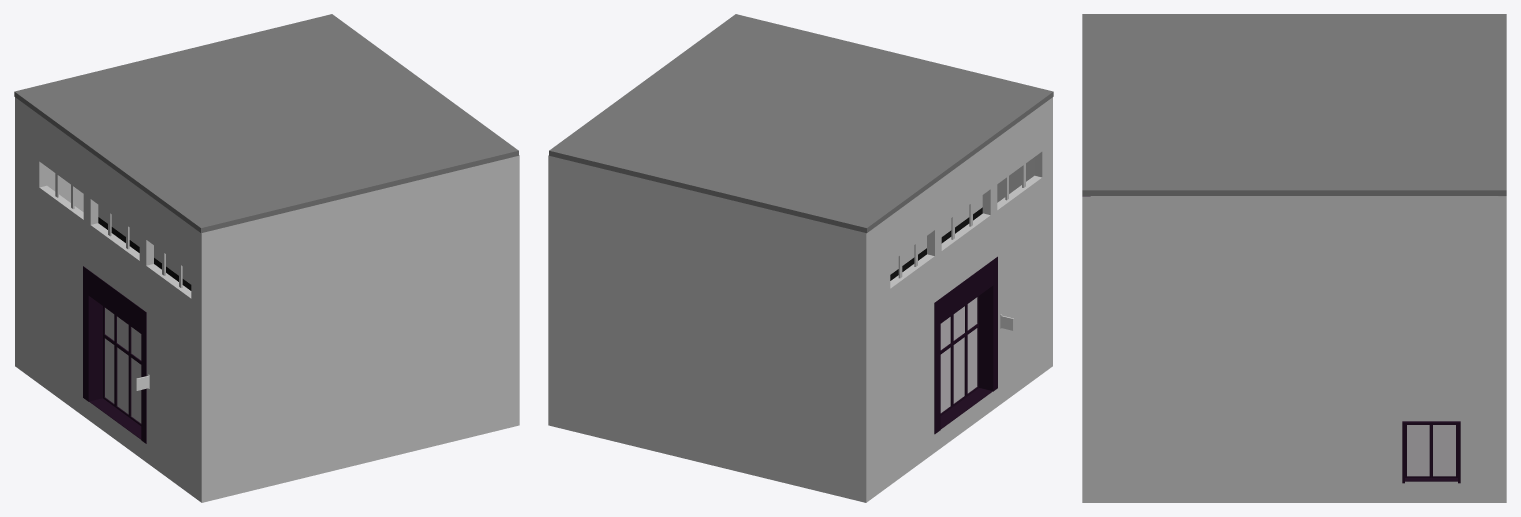
Rendered from Pop-up-Room.fbx.
The picture shows the model from 3 angles, left to right: view 1: azimuth 30°, elevation 25°; view 2: azimuth 150°, elevation 25°; view 3: azimuth 270°, elevation 25°; orthographic projection. The views are drawn at different scales.
Parts seen in each view (by area): view 1: Pop-up-Wall-Outside, Pop-up-Roof, Pop-up-Stage-1-Inside-room, Pop-up-Doors, Pop-up-Wall-Iside-Stage-2, Pop-up-Main-Doors-R, Pop-up-Main-Doors-L; view 2: Pop-up-Wall-Outside, Pop-up-Roof, Pop-up-Stage-1-Inside-room, Pop-up-Doors, Pop-up-Wall-Iside-Stage-2, Pop-up-Main-Doors-L, Pop-up-Main-Doors-R; view 3: Pop-up-Wall-Outside, Pop-up-Roof, Pop-up-Stage-1-Inside-room, Pop-up-Doors-R, Pop-up-Doors-L, Pop-up-Doors-2.
Part boxes in pixels (x1,y1,x2,y2): Pop-up-Wall-Outside: [15, 97, 519, 483]; Pop-up-Roof: [14, 14, 518, 233]; Pop-up-Stage-1-Inside-room: [15, 167, 519, 502]; Pop-up-Doors: [83, 266, 146, 443]; Pop-up-Wall-Iside-Stage-2: [98, 205, 191, 290]; Pop-up-Main-Doors-R: [115, 344, 129, 416]; Pop-up-Main-Doors-L: [129, 355, 141, 425]; Pop-up-Wall-Outside: [548, 97, 1052, 483]; Pop-up-Roof: [549, 14, 1053, 233]; Pop-up-Stage-1-Inside-room: [548, 157, 1052, 502]; Pop-up-Doors: [934, 256, 997, 434]; Pop-up-Wall-Iside-Stage-2: [890, 195, 982, 280]; Pop-up-Main-Doors-L: [952, 334, 966, 406]; Pop-up-Main-Doors-R: [940, 344, 952, 415]; Pop-up-Wall-Outside: [1082, 196, 1506, 481]; Pop-up-Roof: [1082, 14, 1506, 195]; Pop-up-Stage-1-Inside-room: [1082, 196, 1506, 502]; Pop-up-Doors-R: [1405, 425, 1431, 477]; Pop-up-Doors-L: [1431, 425, 1457, 477]; Pop-up-Doors-2: [1402, 421, 1460, 483].
Size of the model in its own units: 15.07 by 12.01 by 14.64.
